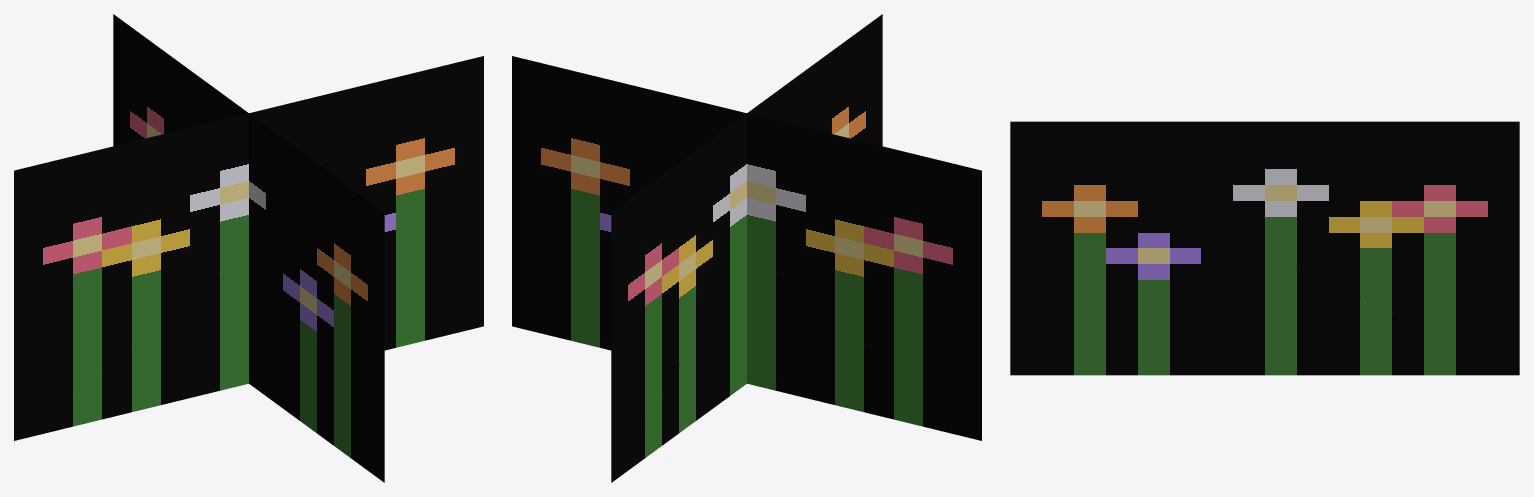
Rendered from flowers.glb.
3 views of the same model, side by side, from view 1: azimuth 30°, elevation 25°; view 2: azimuth 150°, elevation 25°; view 3: azimuth 270°, elevation 25° (orthographic). The views are drawn at different scales.
Visible parts, largest first — view 1: flowers; view 2: flowers; view 3: flowers.
Part boxes in pixels (bbox=[...]): flowers: bbox=[14, 14, 483, 482]; flowers: bbox=[512, 14, 981, 482]; flowers: bbox=[1010, 121, 1519, 375].
Bounding box in the file's own units: 1 × 0.55 × 1.
Materials: 1 (1 with a texture image).
